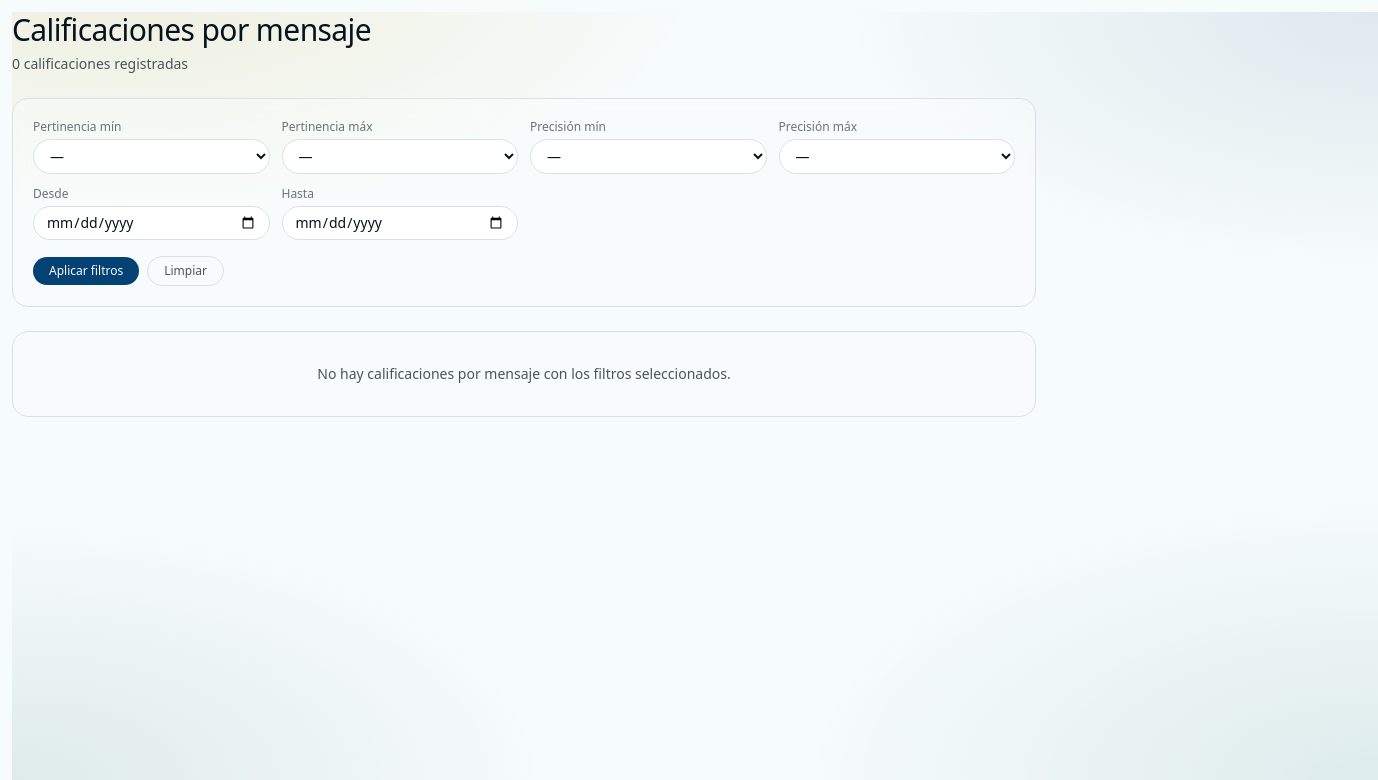
MessageFeedbackPage — filtros administrativos (A3) › bloquea 'Aplicar filtros' si la precisión mínima es mayor que la máxima
Select "4 ★" in the dropdown labelled "Precisión mín" at (648, 156), box [530,139,766,174]
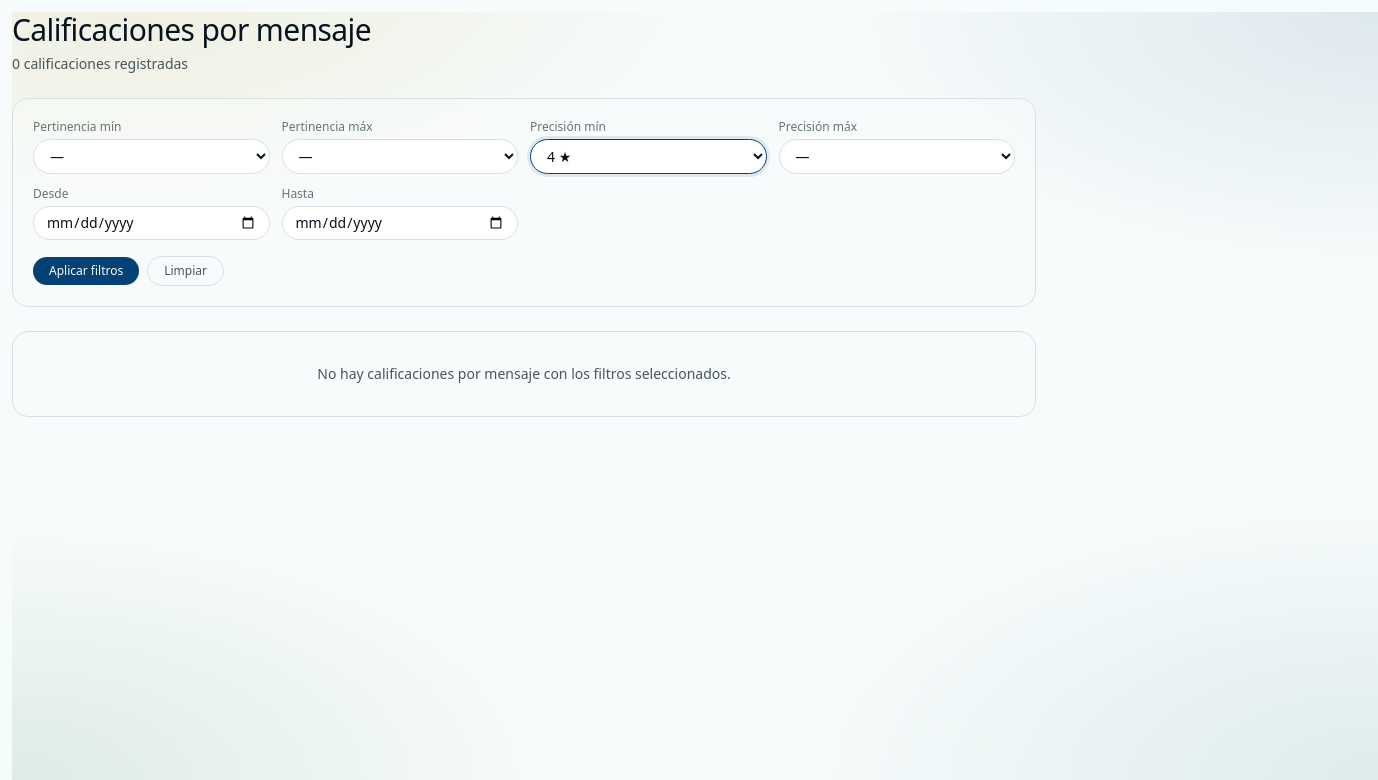
Select "1 ★" in the dropdown labelled "Precisión máx" at (897, 156), box [778,139,1015,174]
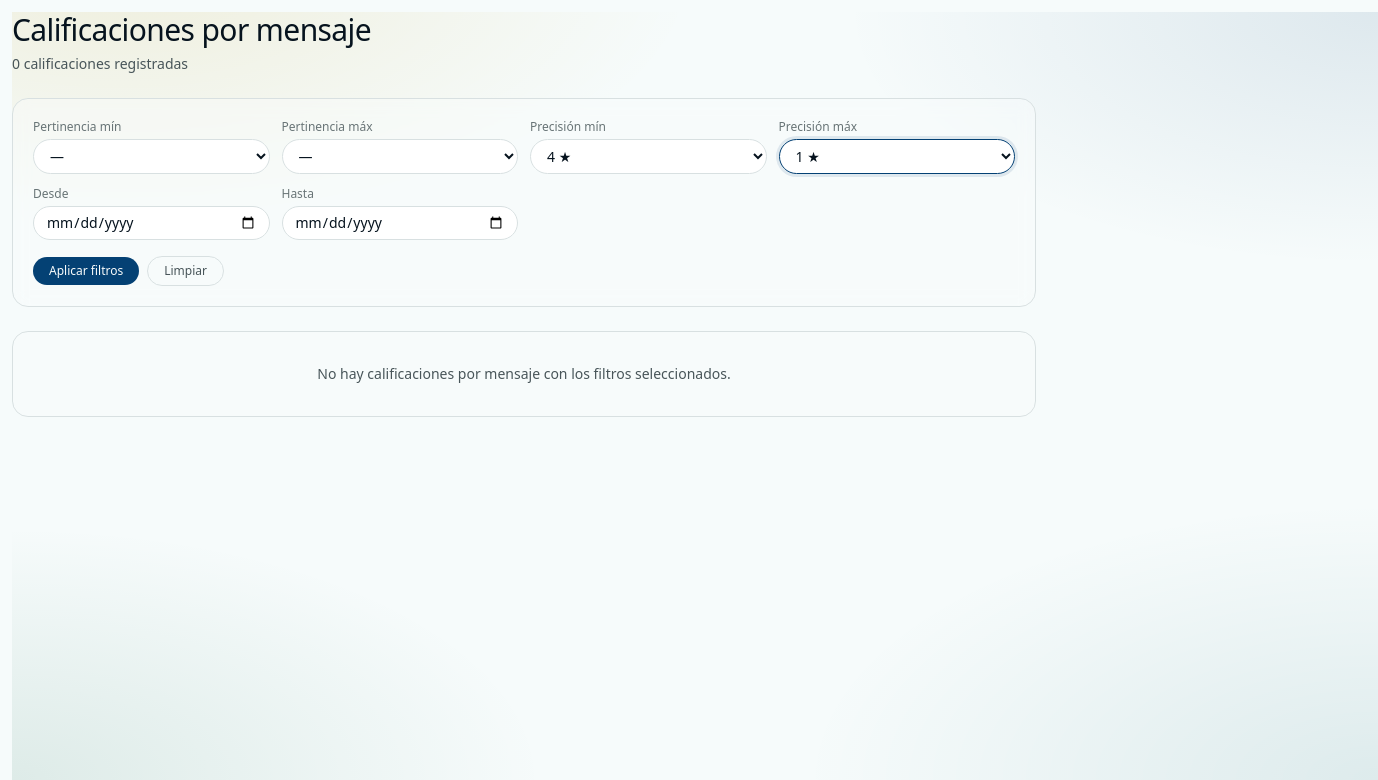
Click the button "Aplicar filtros" at (86, 271), box [33,257,139,285]
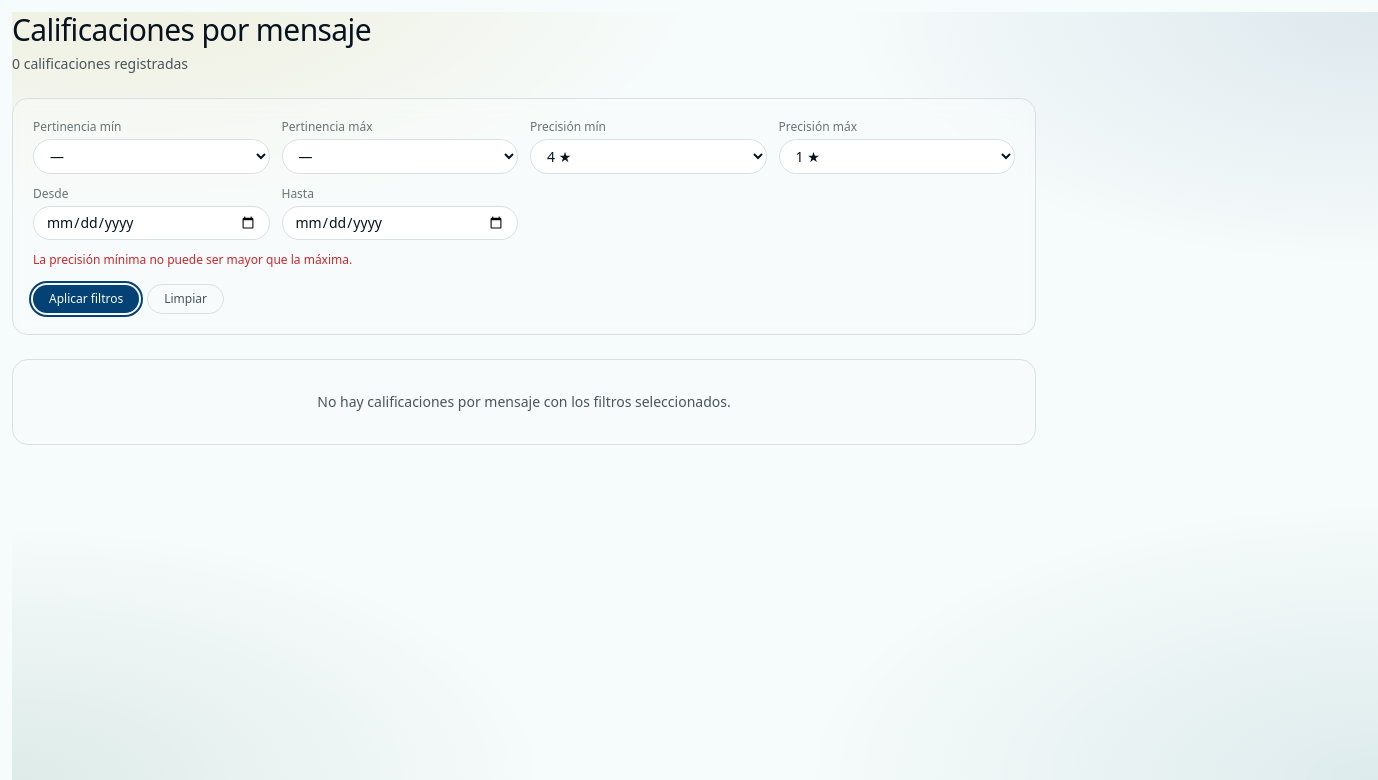
Result: the message shows "precisión mínima no puede ser mayor" at [33,251,352,268]
